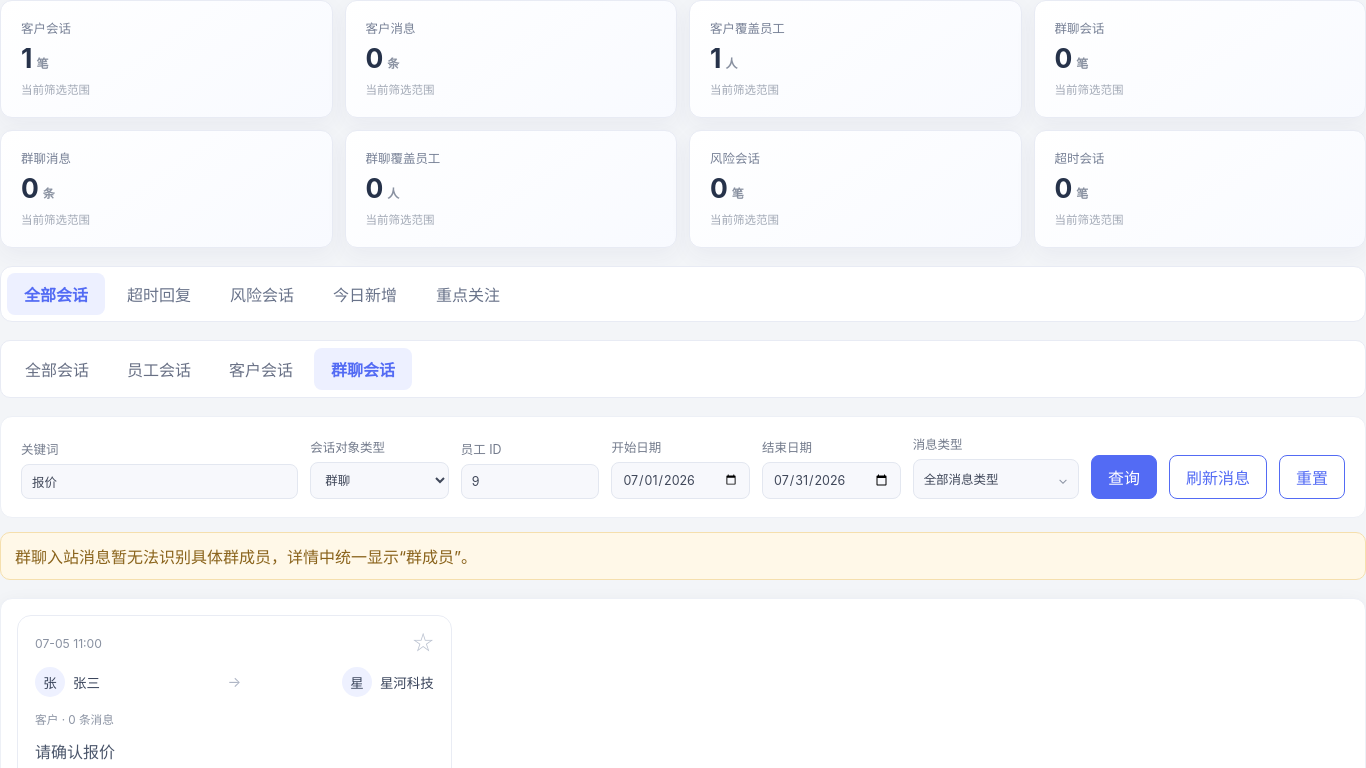
Test: ConversationGlobalPage › resets every persisted filter and pagination value
Expected: the text "星河科技" is shown, left=380, top=672, right=434, bottom=692
Click the button "重置" at (1312, 477), box left=1279, top=455, right=1345, bottom=499
(page scrolled)
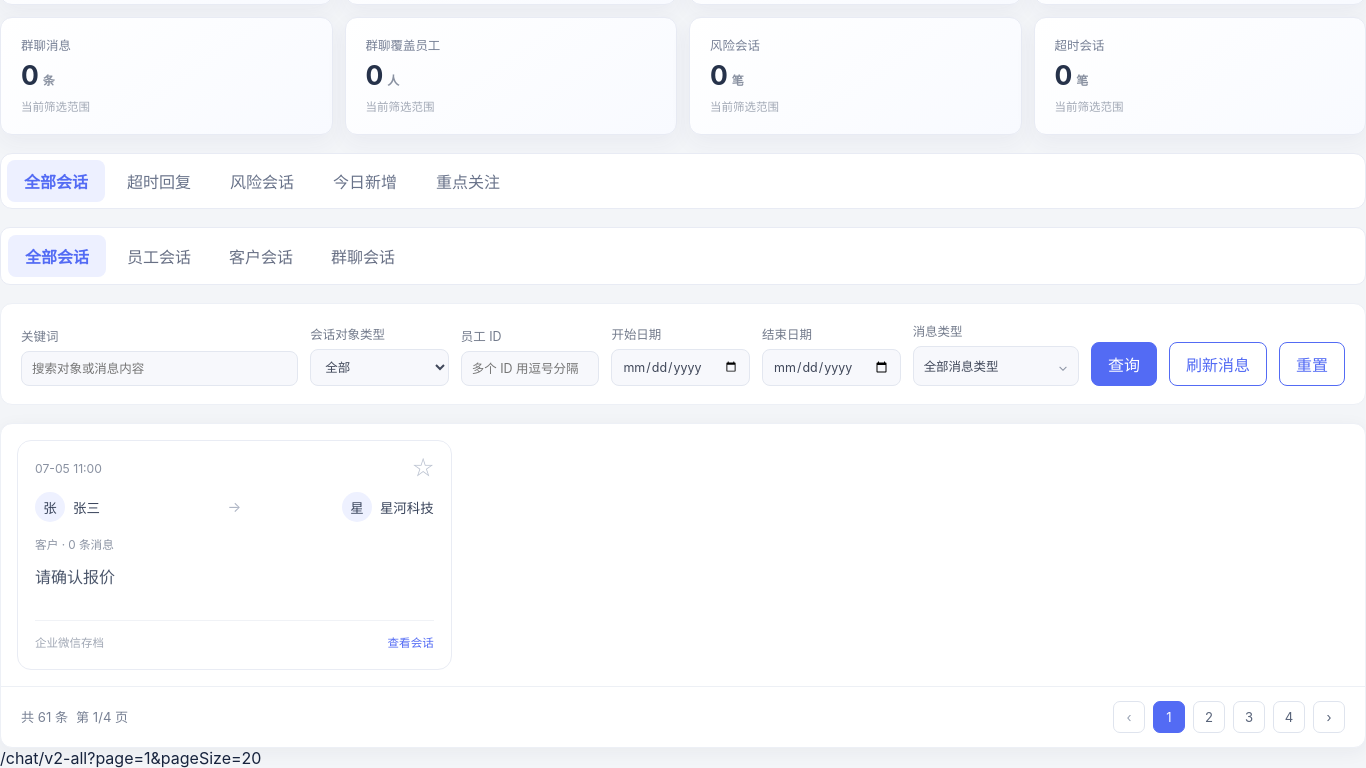
Result: the text named "当前地址" reads "/chat/v2-all?page=1&pageSize=20" at left=0, top=748, right=262, bottom=767
